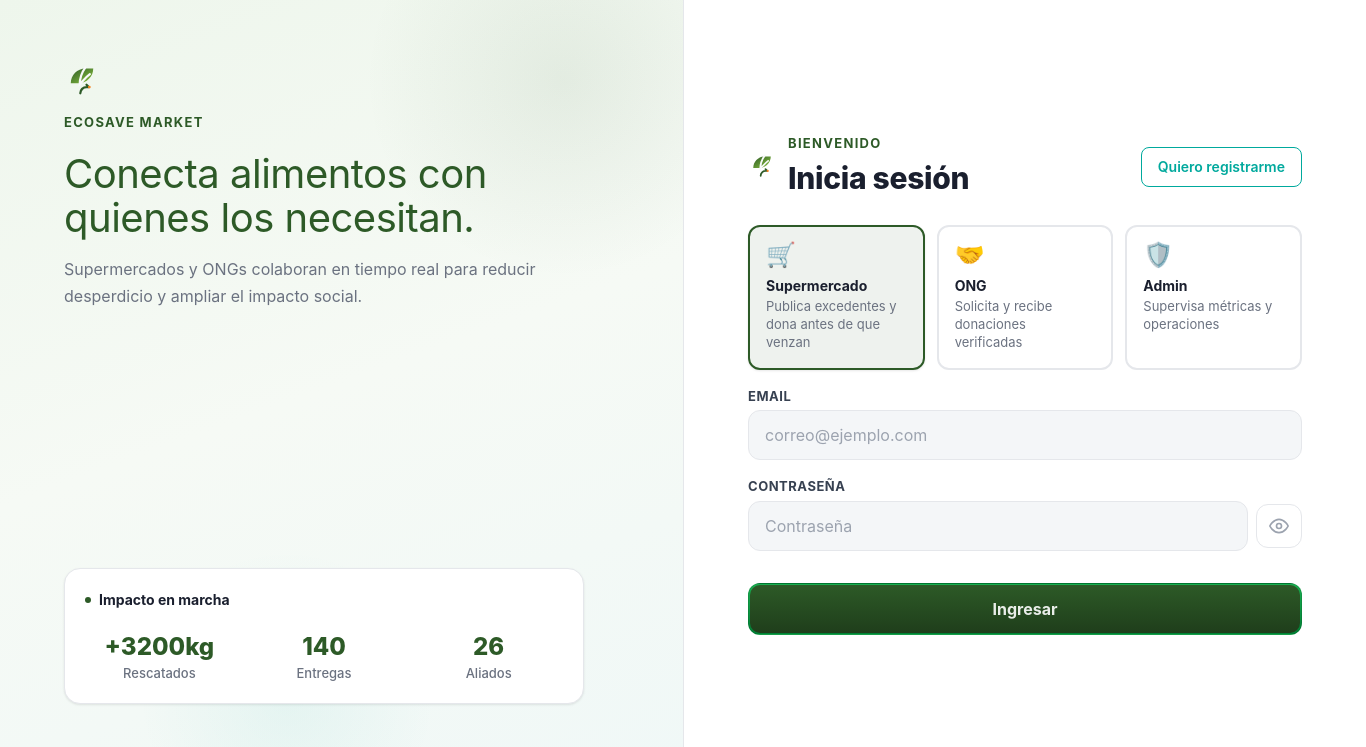
AuthForm — validaciones en modo registro › muestra campo "Área de misión" solo cuando el rol es ONG
Click the button "Quiero registrarme" at x=1221, y=167, box [1141, 147, 1302, 187]
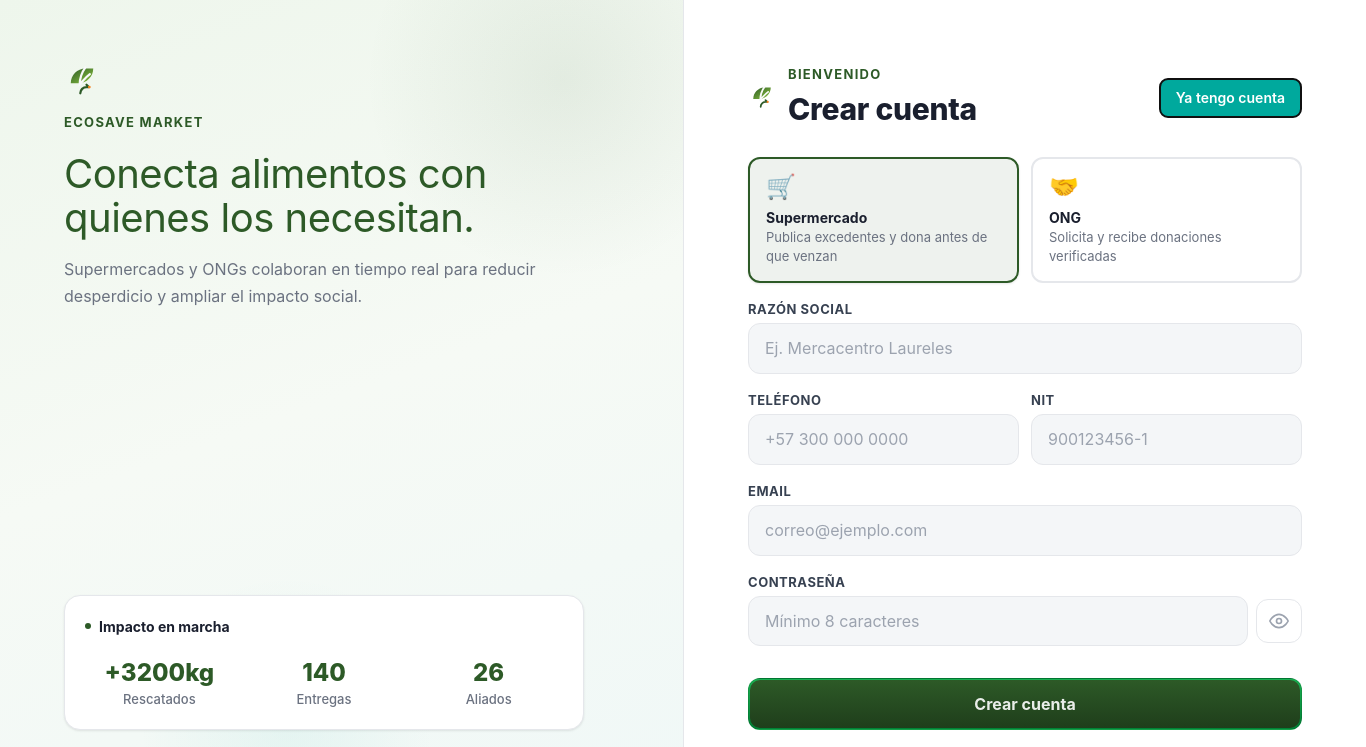
Expected: the text "área de misión" is not shown
Click the text "ONG" at x=1065, y=217, box [1049, 209, 1081, 226]
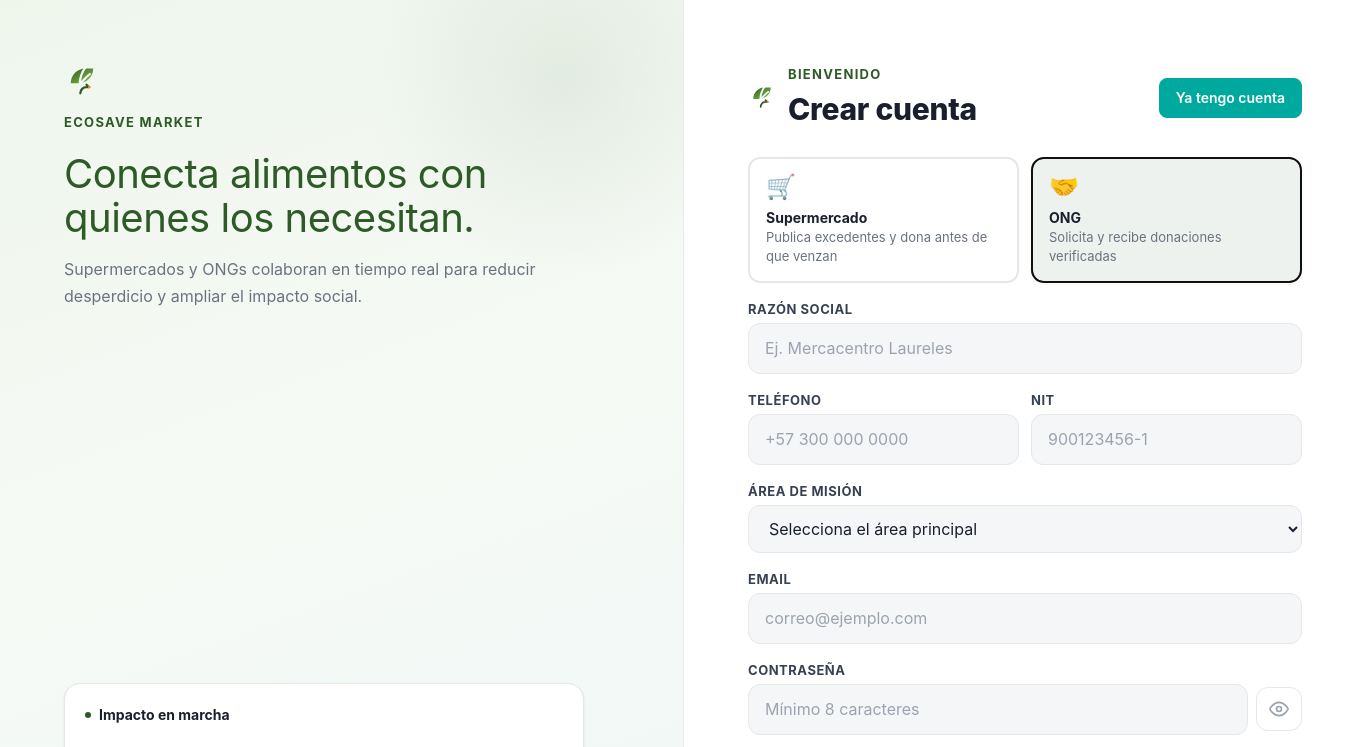
Expected: the text "Área de misión" is shown, [748, 483, 862, 499]
